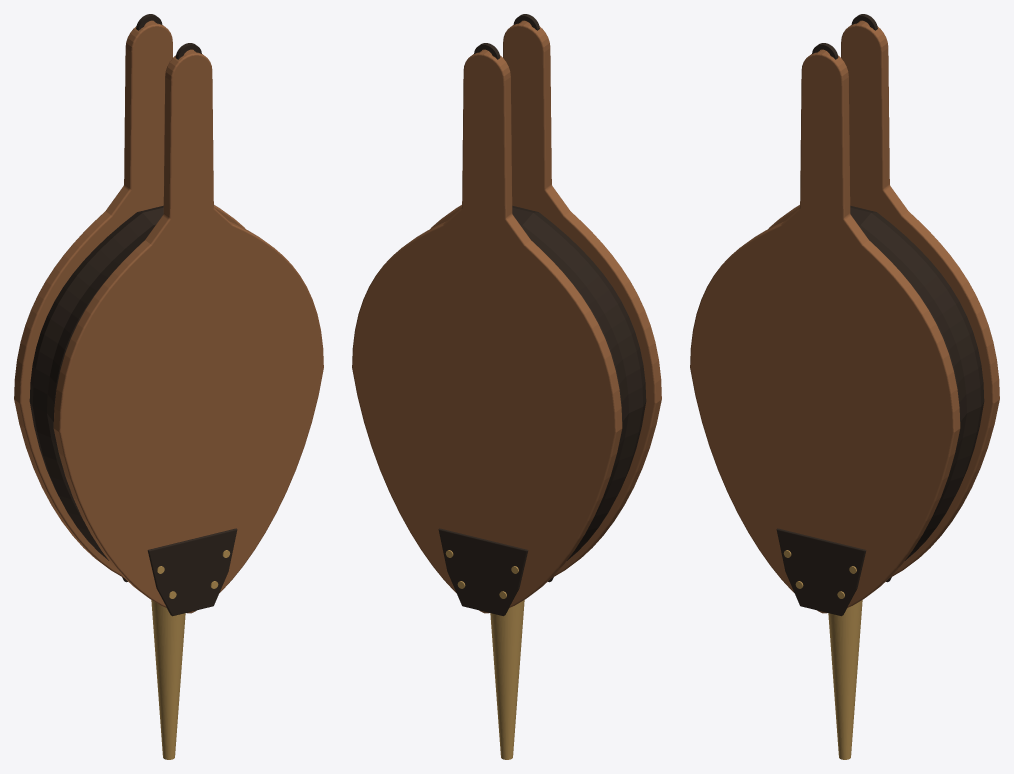
The model's file is full.glb.
The picture shows the model from 3 angles, left to right: view 1: azimuth 30°, elevation 25°; view 2: azimuth 150°, elevation 25°; view 3: azimuth 330°, elevation 25°; orthographic projection.
Visible parts, largest first — view 1: Wood board and handle -0.023, Wood board and handle 0.023, Folded leather gusset, Nozzle end leather cover -0.027, Long tapered open brass nozzle; view 2: Wood board and handle 0.023, Wood board and handle -0.023, Folded leather gusset, Nozzle end leather cover 0.027, Long tapered open brass nozzle; view 3: Wood board and handle -0.023, Wood board and handle 0.023, Folded leather gusset, Nozzle end leather cover -0.027, Long tapered open brass nozzle.
Part boxes in pixels (x1,y1,x2,y2): Wood board and handle -0.023: (53,49,323,613); Wood board and handle 0.023: (14,20,245,577); Folded leather gusset: (29,205,163,560); Nozzle end leather cover -0.027: (147,528,237,616); Long tapered open brass nozzle: (151,600,185,759); Wood board and handle 0.023: (352,49,622,613); Wood board and handle -0.023: (430,20,661,577); Folded leather gusset: (512,205,646,560); Nozzle end leather cover 0.027: (438,528,528,616); Long tapered open brass nozzle: (490,600,524,759); Wood board and handle -0.023: (690,49,960,613); Wood board and handle 0.023: (768,20,999,577); Folded leather gusset: (850,205,984,560); Nozzle end leather cover -0.027: (776,528,866,616); Long tapered open brass nozzle: (828,600,862,759).
Size of the model in its own units: 0.1778 by 0.467 by 0.0582.
